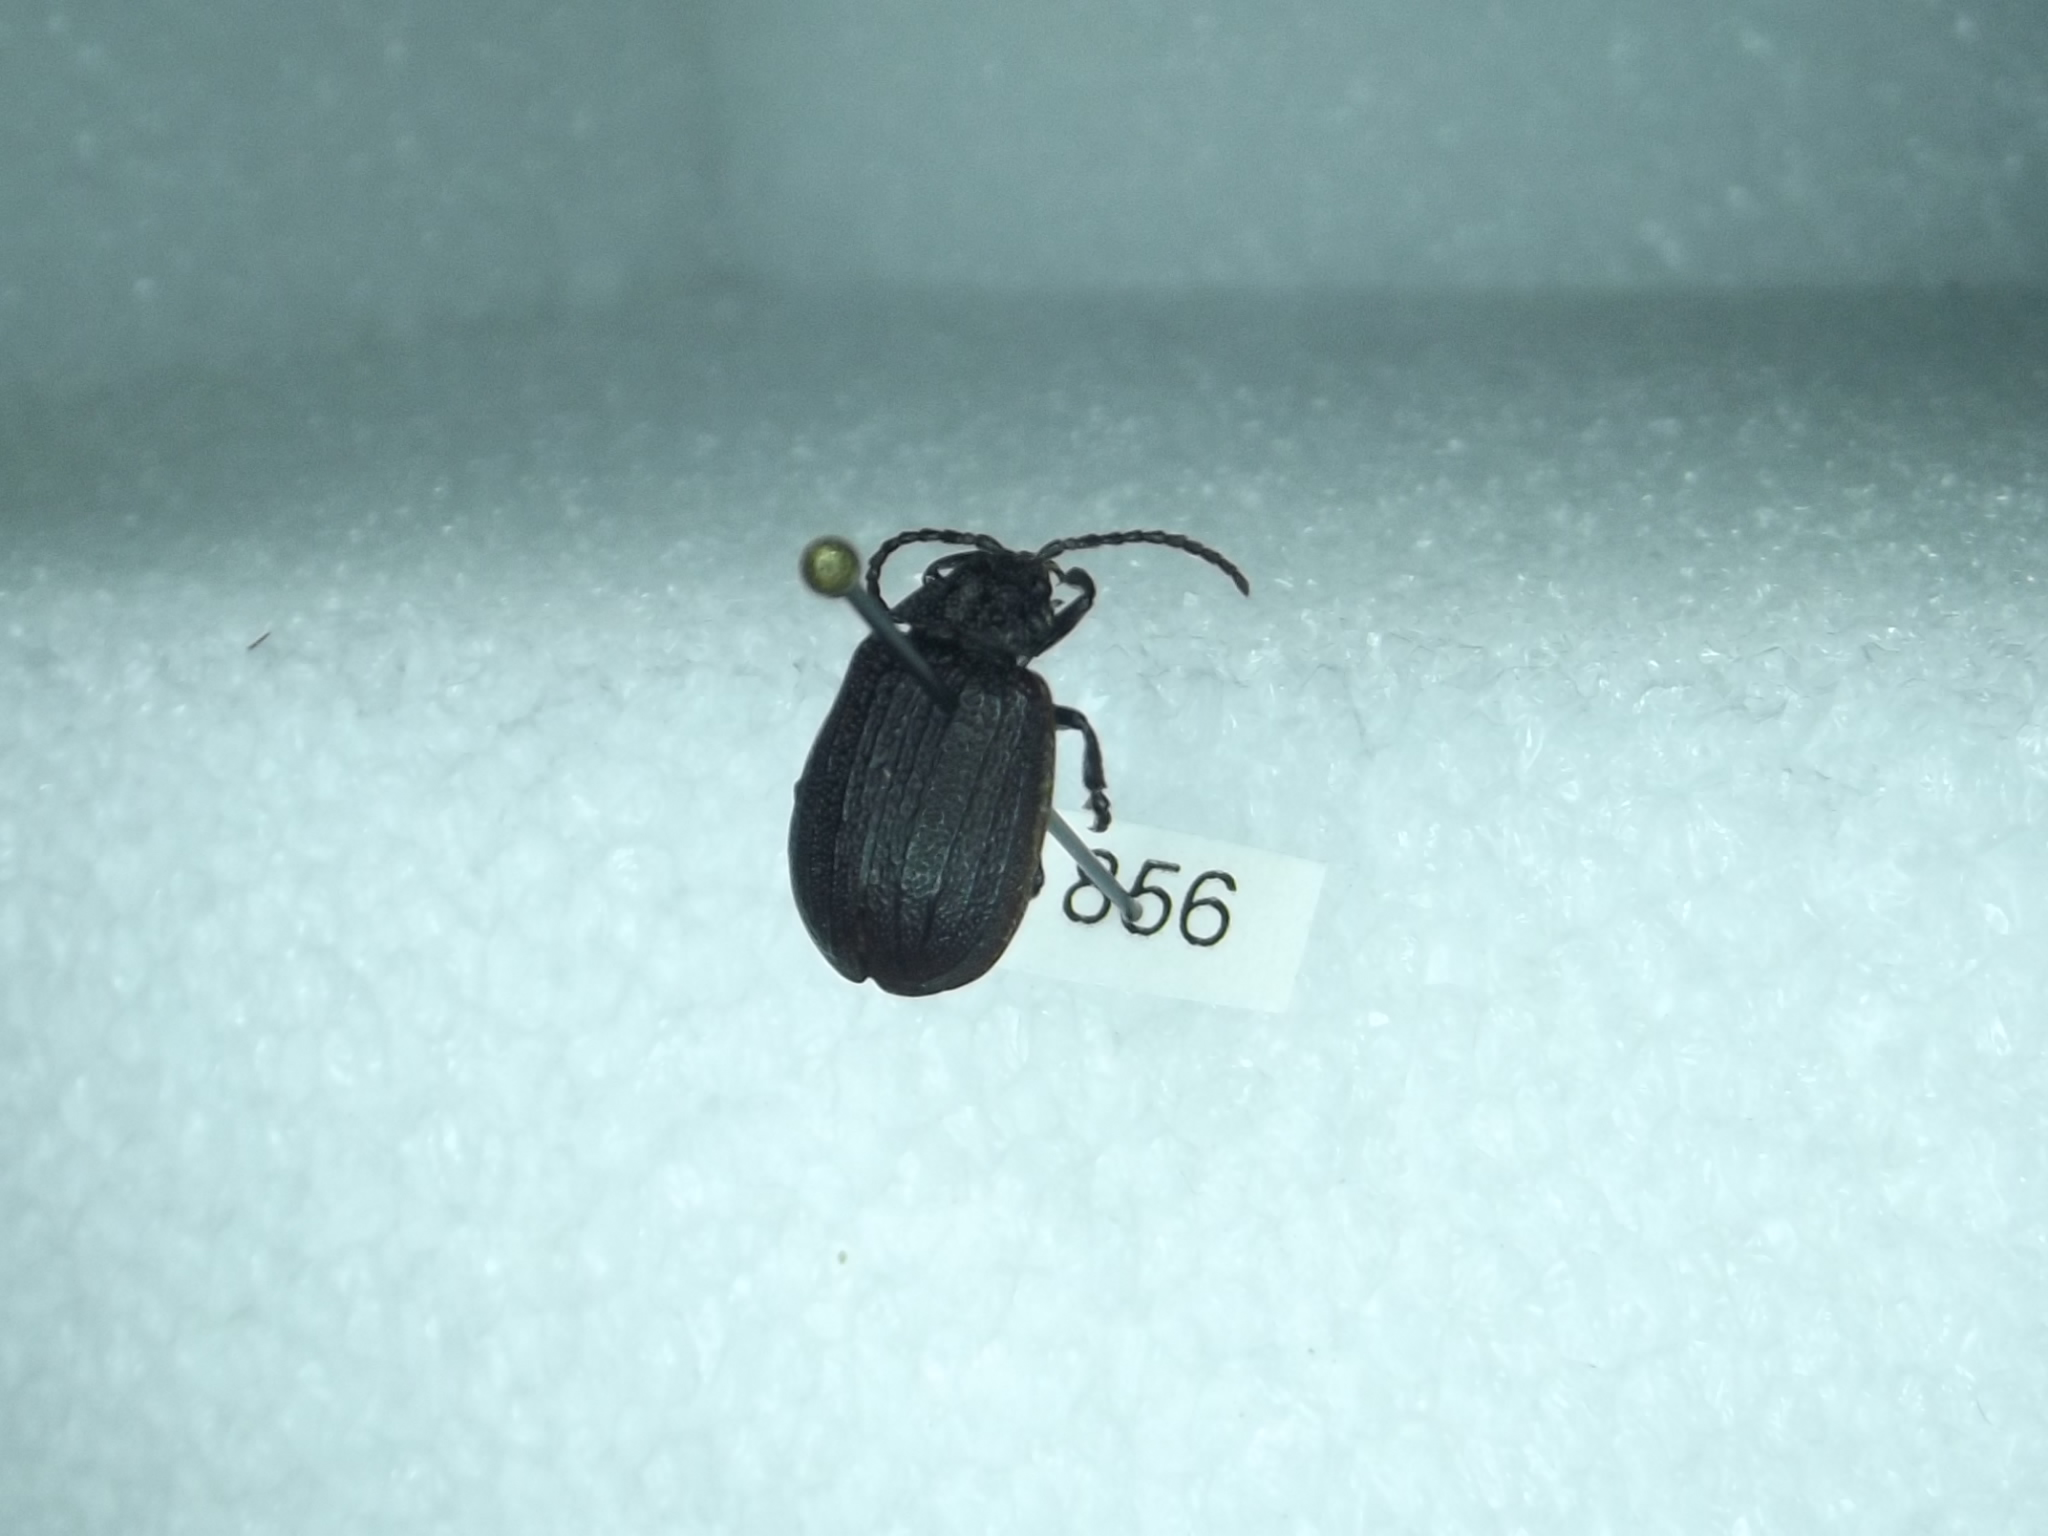Galeruca_tanaceti: (790, 520, 1256, 1000)
